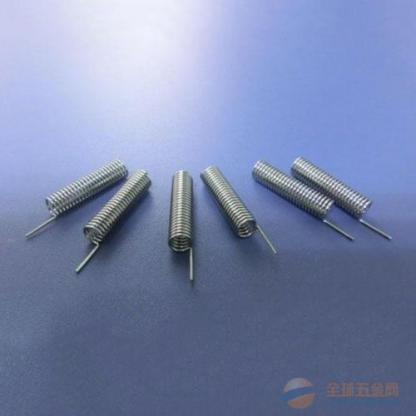FOD: (289, 154, 394, 244), (70, 167, 155, 276), (21, 158, 130, 242), (251, 160, 356, 245), (199, 163, 278, 257), (166, 167, 197, 284)
